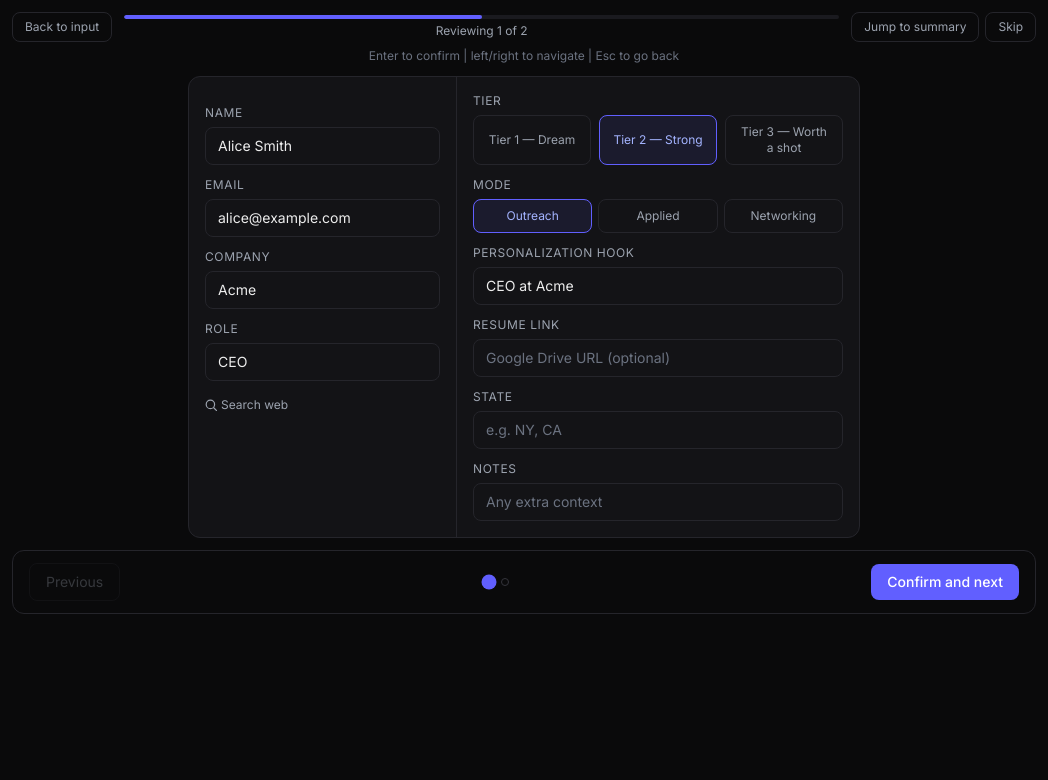
ReviewFlow — summary phase › lists pending count in Not reviewed section when user jumps to summary early
This screenshot has width=1048, height=780.
Step 1. Click the button "Jump to summary" → x=915, y=27, box [851, 12, 980, 42]
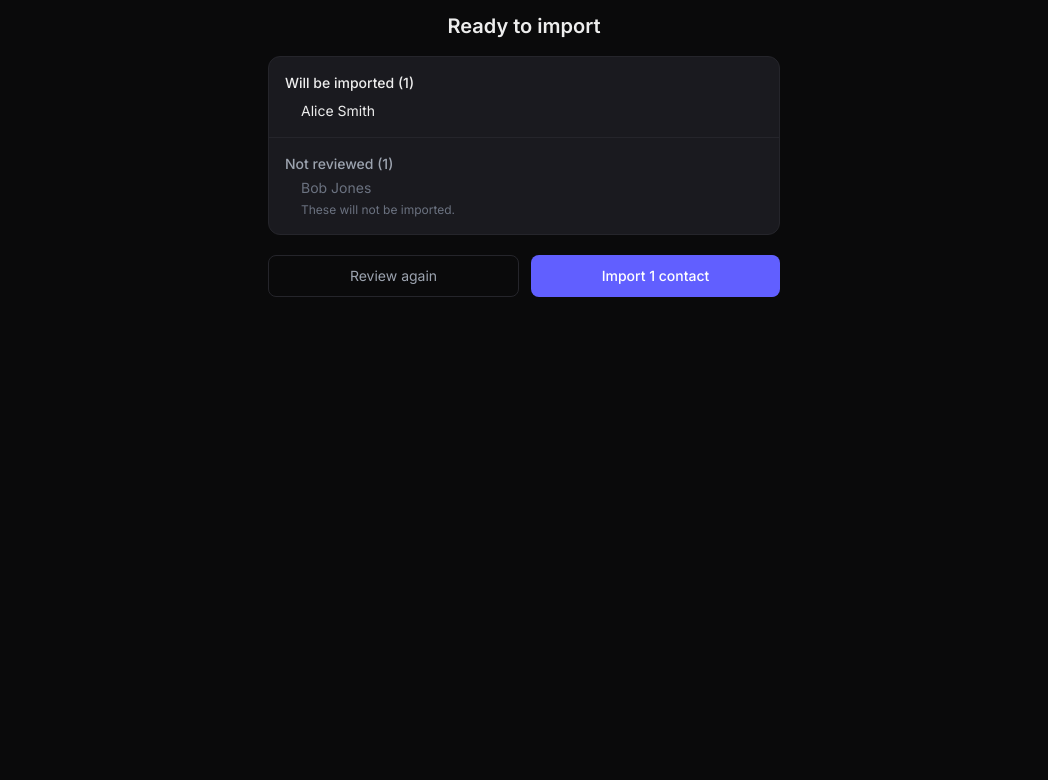
Result: the heading "Ready to import" is shown at [447, 14, 600, 38]
Result: the text "Not reviewed (1)" is shown at [285, 155, 393, 172]
Result: the text "These will not be imported." is shown at [301, 202, 455, 217]
